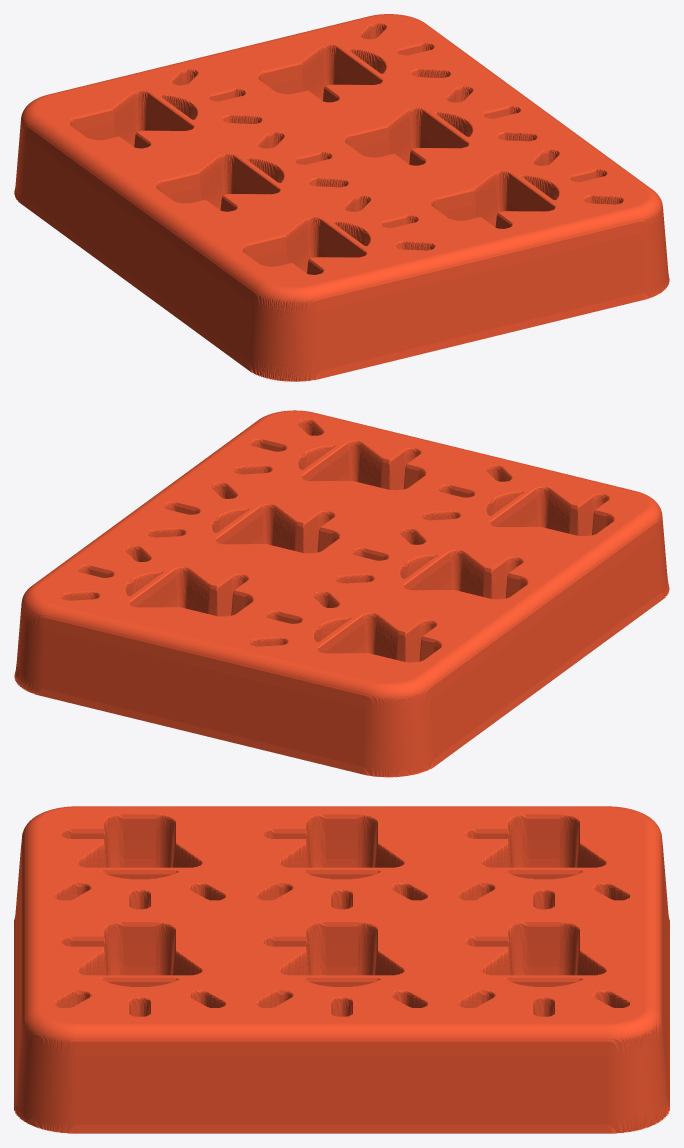
Rendered from mold.glb.
3 views of the same model, one above another, from view 1: azimuth 30°, elevation 25°; view 2: azimuth 150°, elevation 25°; view 3: azimuth 270°, elevation 25° (orthographic). The views are drawn at different scales.
Parts seen in each view (by area): view 1: geometry_0; view 2: geometry_0; view 3: geometry_0.
Part boxes in pixels (<box>): geometry_0: <box>14,14,669,381</box>; geometry_0: <box>14,410,669,777</box>; geometry_0: <box>14,806,669,1133</box>.
Bounding box in the file's own units: 0.0808 × 0.0159 × 0.0948.
